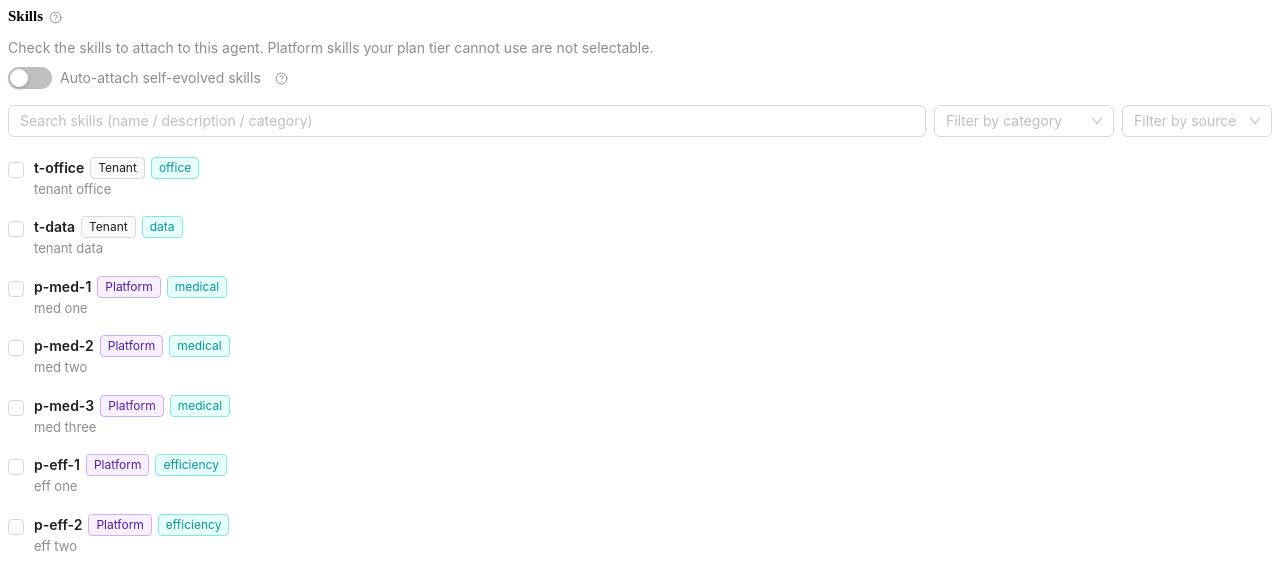
Test: SkillPicker › source filter narrows the list to the chosen source
The width and height of the screenshot is (1280, 568).
Check: the element with test id "af-skill-row-t-office" is shown, box x1=8 y1=149 x2=1272 y2=208
Click the element showing "Filter by source": coordinates (1197, 121) x1=1122 y1=105 x2=1272 y2=137
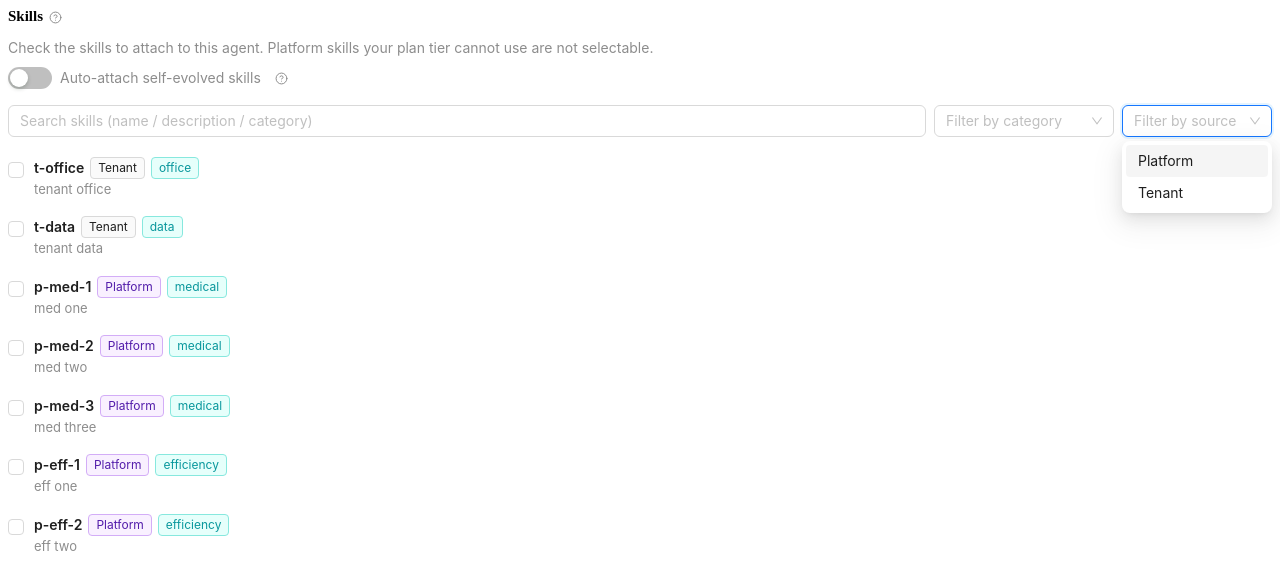
Click the 2nd text "Tenant": coordinates (1161, 192) x1=1138 y1=184 x2=1183 y2=201
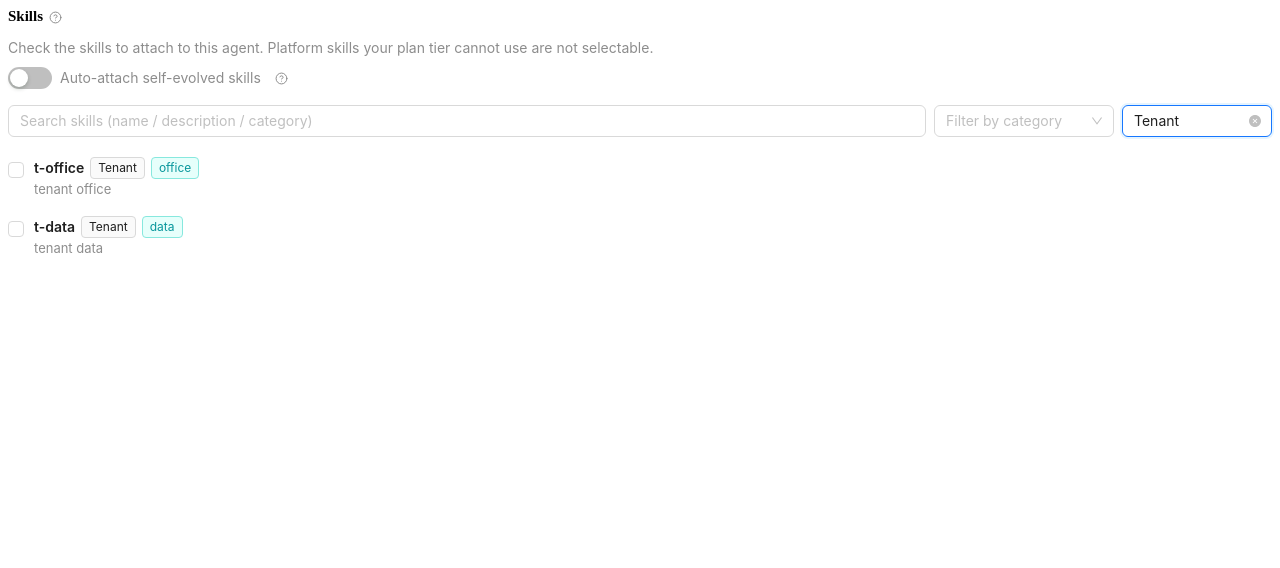
Check: the element with test id "af-skill-row-t-office" is shown, box x1=8 y1=149 x2=1272 y2=208
Check: the element with test id "af-skill-row-p-med-1" is gone
